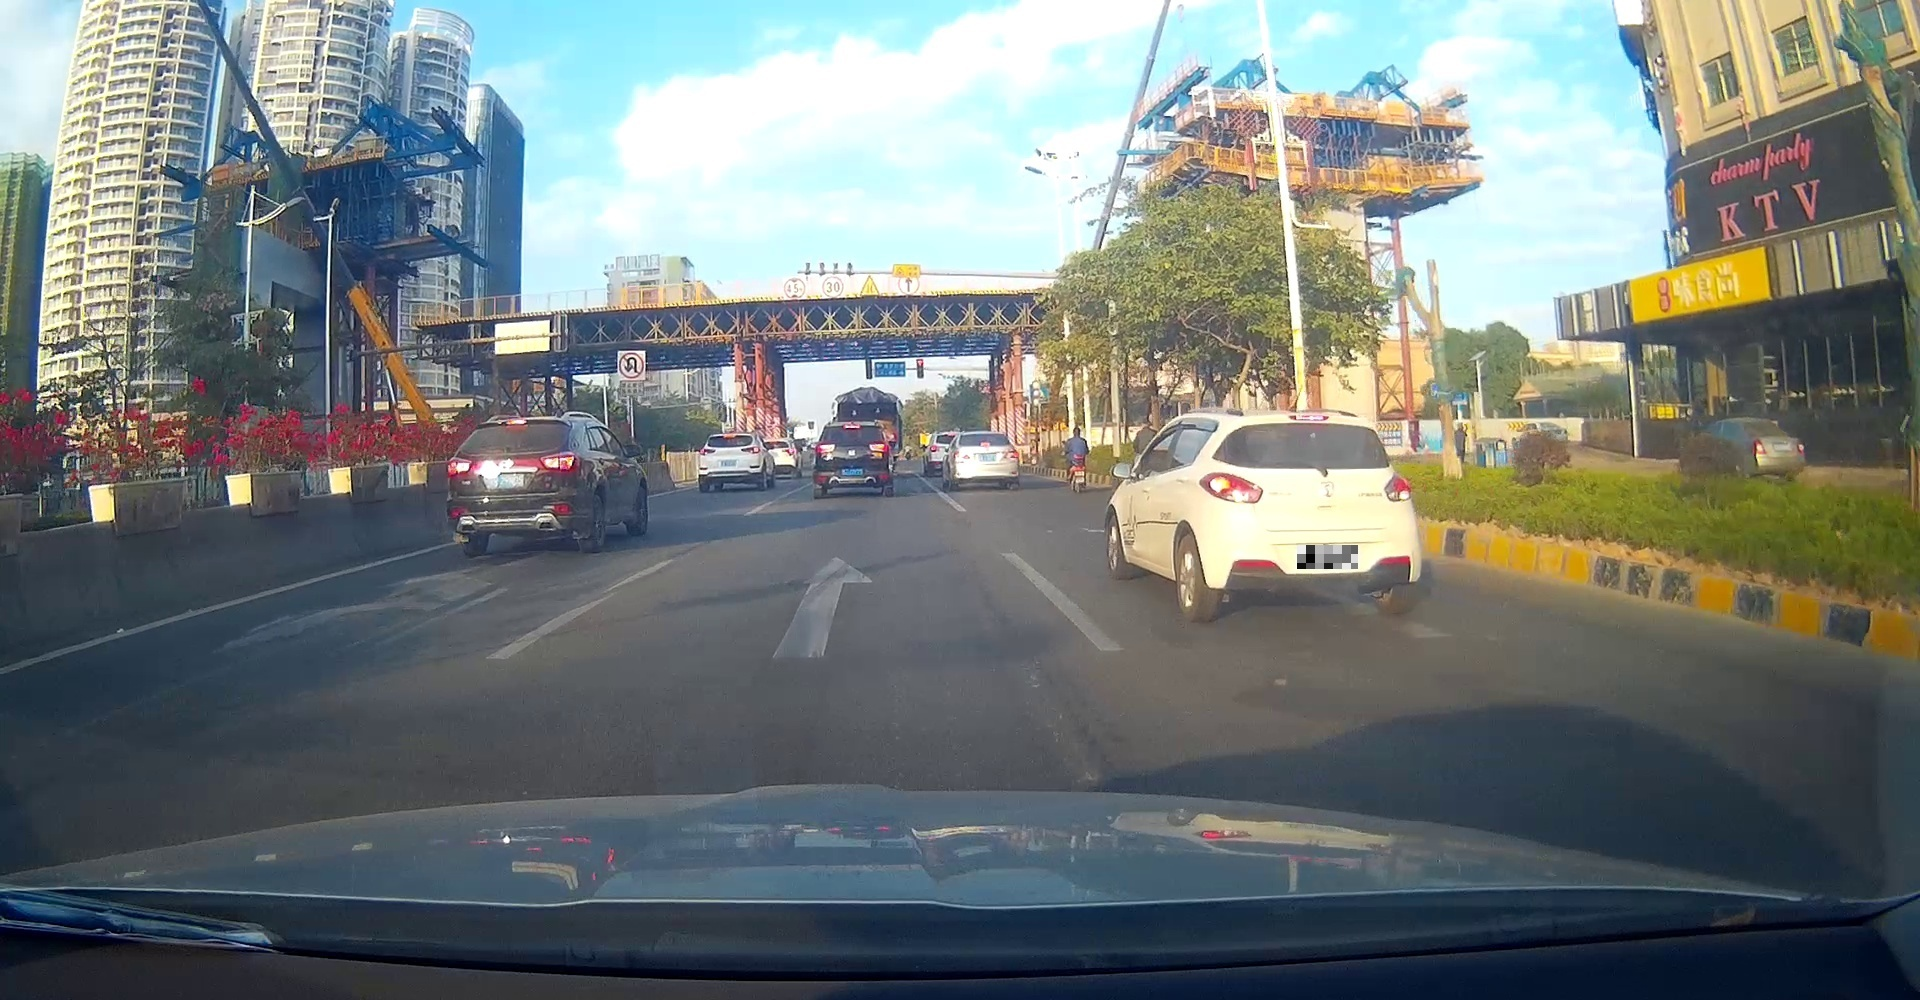L_light: (1197, 472, 1263, 504), (447, 457, 472, 476), (815, 442, 836, 453), (952, 451, 970, 459), (698, 449, 715, 456)
R_light: (1384, 470, 1412, 503), (538, 452, 575, 472), (869, 443, 888, 452), (742, 445, 759, 454), (1004, 449, 1018, 459)
T_light: (1288, 415, 1328, 423), (505, 419, 528, 425), (841, 424, 860, 429), (980, 442, 990, 447), (723, 434, 735, 438)
day-brake: (1196, 411, 1421, 624), (444, 416, 584, 557), (811, 421, 890, 497), (952, 431, 1018, 491), (698, 433, 761, 492)
plate_1: (1297, 544, 1357, 569)
